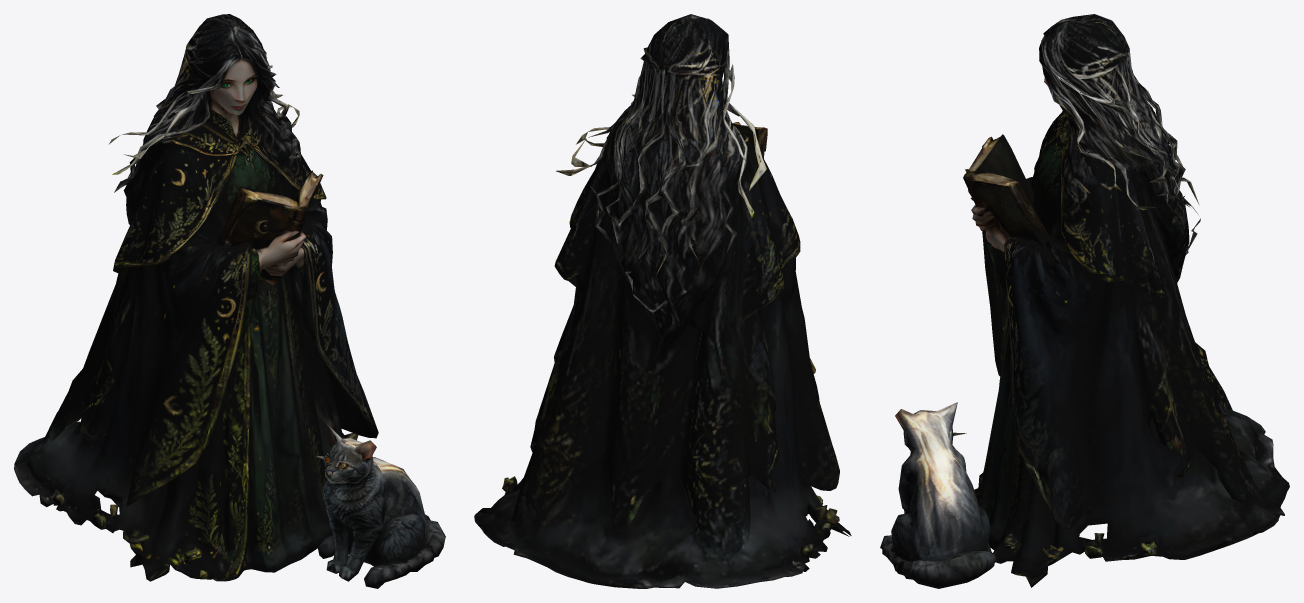
File: dayze.glb
The picture shows the model from 3 angles, left to right: view 1: azimuth 30°, elevation 25°; view 2: azimuth 150°, elevation 25°; view 3: azimuth 270°, elevation 25°; orthographic projection. The views are drawn at different scales.
Visible parts, largest first — view 1: tripo_node_458ff3a1-d893-49f3-862a-7f6454109bde; view 2: tripo_node_458ff3a1-d893-49f3-862a-7f6454109bde; view 3: tripo_node_458ff3a1-d893-49f3-862a-7f6454109bde.
Boxes of the visible parts, left/top/right/bottom form: tripo_node_458ff3a1-d893-49f3-862a-7f6454109bde: left=14, top=14, right=445, bottom=588; tripo_node_458ff3a1-d893-49f3-862a-7f6454109bde: left=474, top=14, right=851, bottom=588; tripo_node_458ff3a1-d893-49f3-862a-7f6454109bde: left=880, top=14, right=1289, bottom=588.
Bounding box in the file's own units: 0.6095 × 0.9805 × 0.7147.
1 material, 1 textured.
